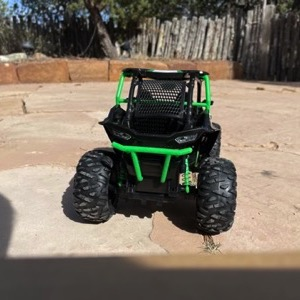polaris: (73, 66, 239, 238)
